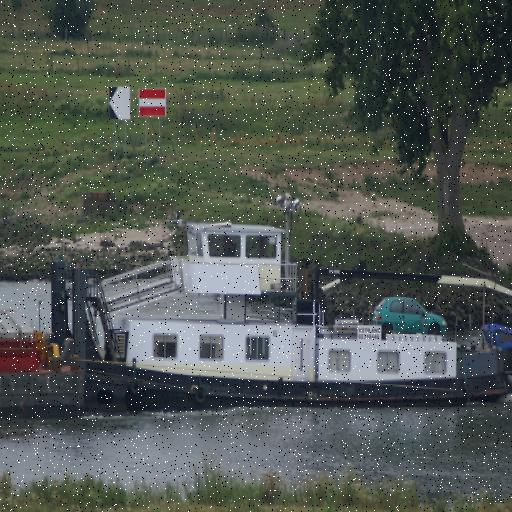tugboat: (46, 188, 512, 426)
